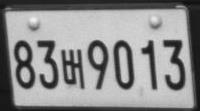0: (112, 39, 135, 90)
1: (139, 39, 161, 90)
3: (162, 39, 186, 91), (37, 39, 59, 90)
8: (12, 39, 36, 90)
9: (87, 38, 109, 90)
버: (60, 48, 85, 89)
